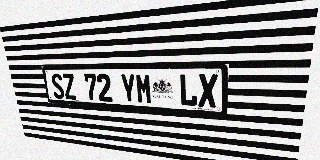2: (96, 74, 113, 102)
7: (83, 74, 99, 101)
L: (179, 74, 197, 107)
M: (135, 74, 153, 104)
S: (50, 74, 65, 99)
X: (198, 74, 218, 108)
Y: (120, 74, 137, 103)
Z: (61, 74, 77, 100)
